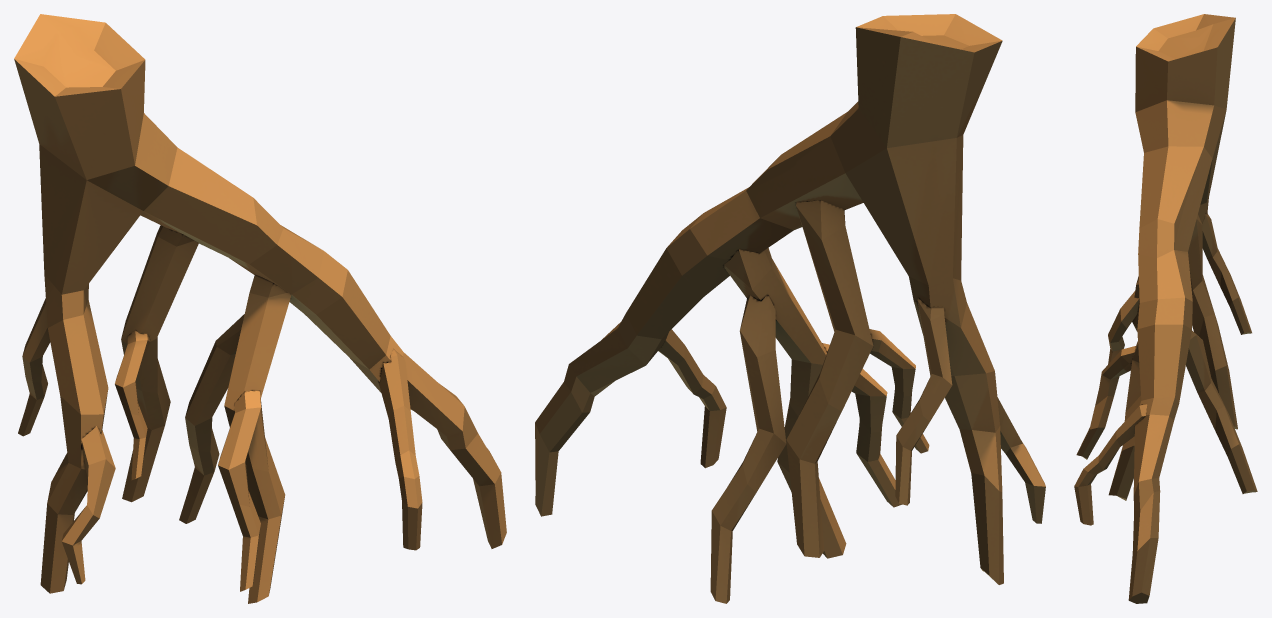
The model's file is PUSHILIN_tree_roots.obj.
3 views of the same model, side by side, from view 1: azimuth 30°, elevation 25°; view 2: azimuth 150°, elevation 25°; view 3: azimuth 270°, elevation 25° (orthographic). The views are drawn at different scales.
Parts seen in each view (by area): view 1: tree_roots_Cylinder.007; view 2: tree_roots_Cylinder.007; view 3: tree_roots_Cylinder.007.
Part boxes in pixels (x1=…): tree_roots_Cylinder.007: x1=14, y1=14, x2=506, y2=603; tree_roots_Cylinder.007: x1=535, y1=14, x2=1045, y2=603; tree_roots_Cylinder.007: x1=1074, y1=14, x2=1257, y2=603.
Bounding box in the file's own units: 1.87 × 2.28 × 0.8583.
1 material, 1 textured.
